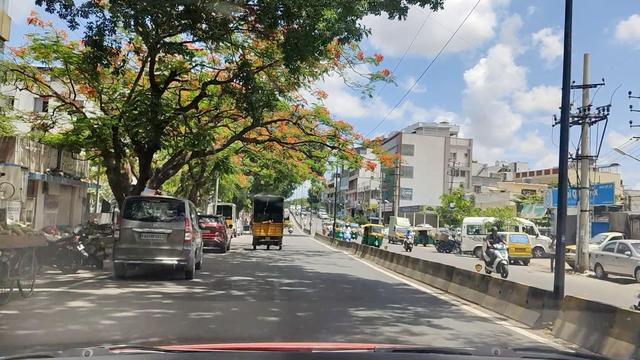HMV: (253, 193, 283, 247)
LMV: (115, 199, 197, 279)
